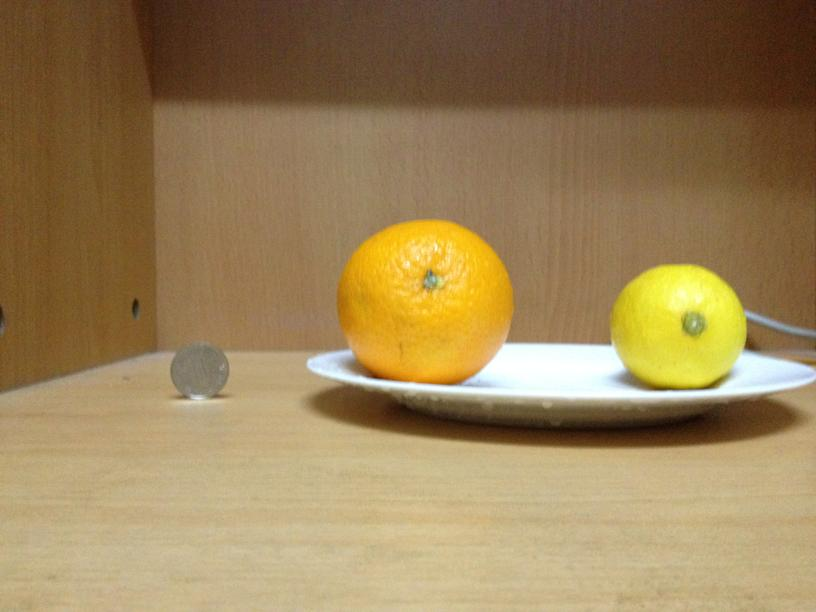coin: (167, 341, 229, 401)
lemon: (606, 261, 746, 387)
orange: (335, 218, 511, 382)
